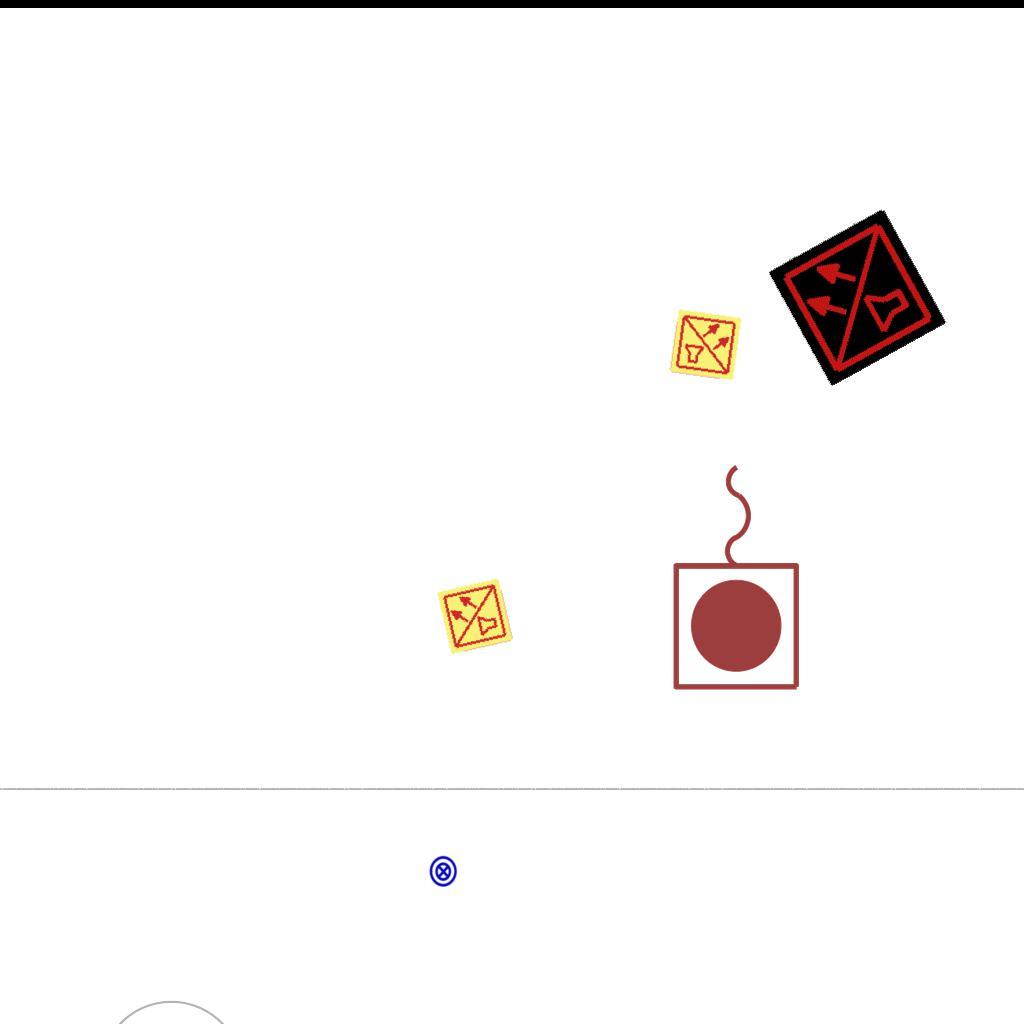OKW_Multisensormelder_(Kombination_optischer_Rauch-Kahlenmonoxid_Waerme-Melder): (767, 207, 947, 387), (435, 576, 515, 656), (668, 307, 744, 383)
Taster_beleuchtet: (427, 855, 460, 888)
Zugtaster: (666, 454, 810, 698)
